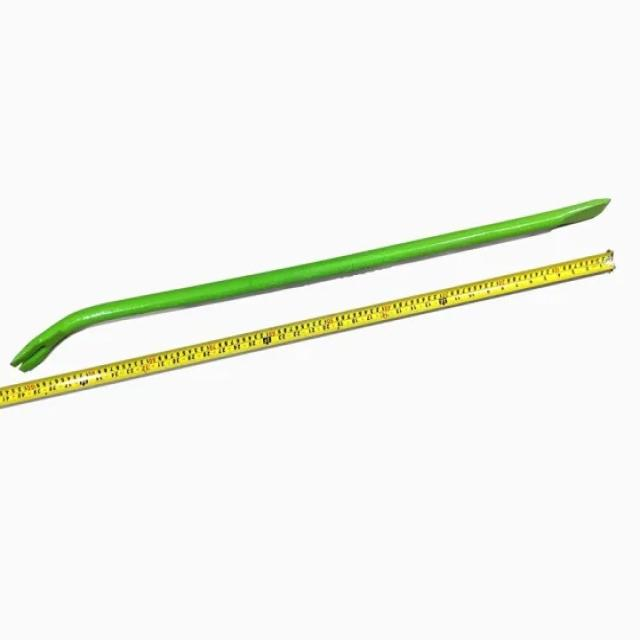Linggis: (13, 198, 611, 371)
